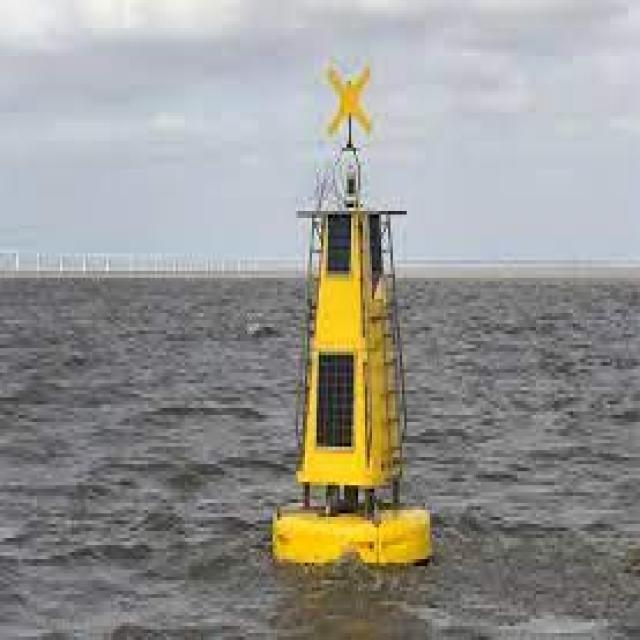2.5 sepcial mark: (279, 33, 437, 582)
